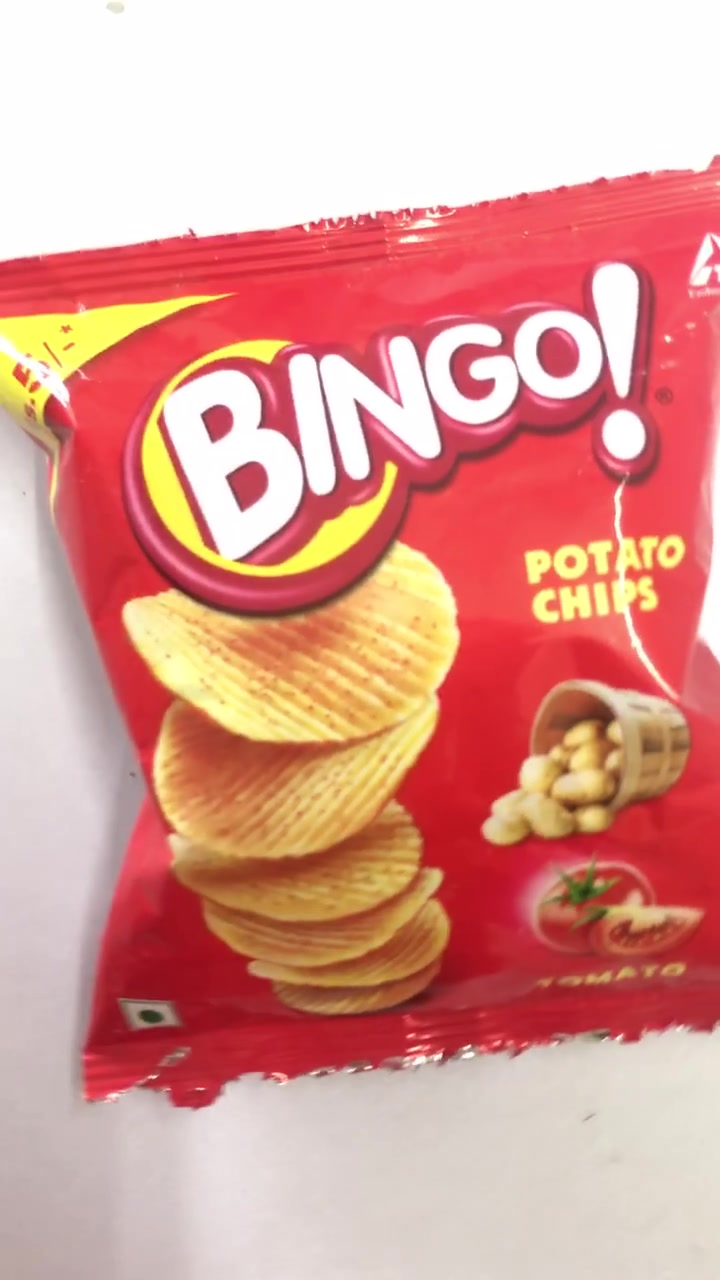Bingo: (5, 260, 716, 1071)
